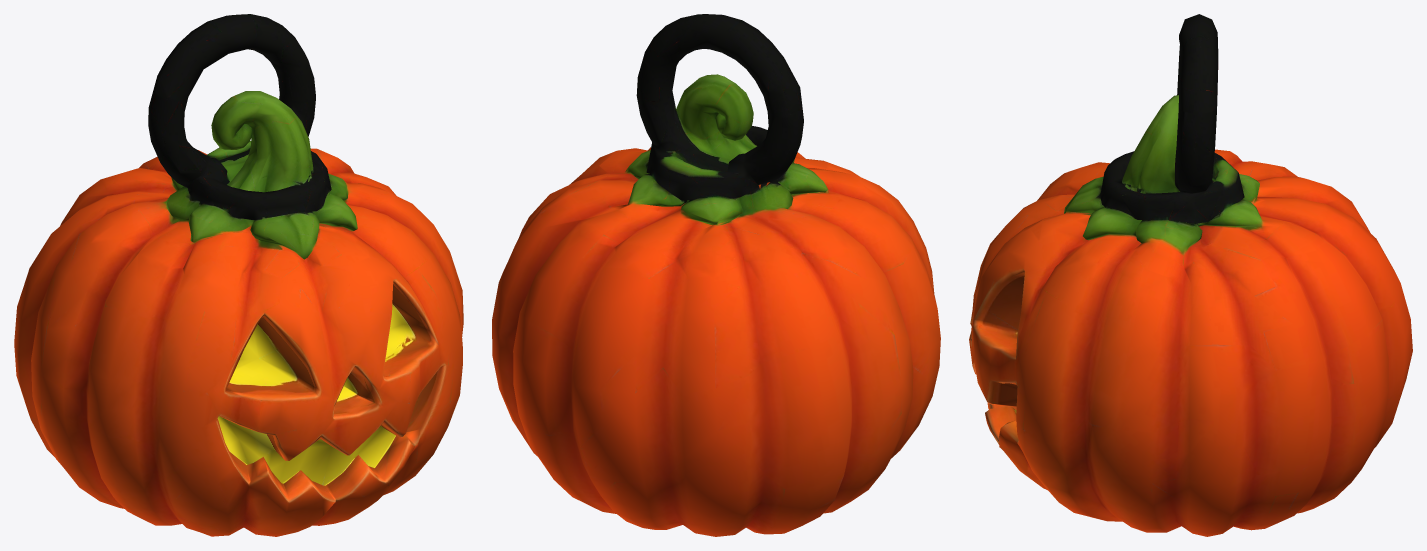
File: halloween_pumpkin_lantern.glb
3 renders of one model, left to right at view 1: azimuth 30°, elevation 25°; view 2: azimuth 150°, elevation 25°; view 3: azimuth 270°, elevation 25°, orthographic. The views are drawn at different scales.
Parts seen in each view (by area): view 1: furniture-fit; view 2: furniture-fit; view 3: furniture-fit.
Boxes of the visible parts, box(x1,y1,x2,y2) form: furniture-fit: box(14, 14, 463, 536); furniture-fit: box(492, 14, 940, 536); furniture-fit: box(969, 14, 1412, 536).
Size of the model in its own units: 0.36 by 0.4295 by 0.3642.
Materials: 1 (1 with a texture image).
